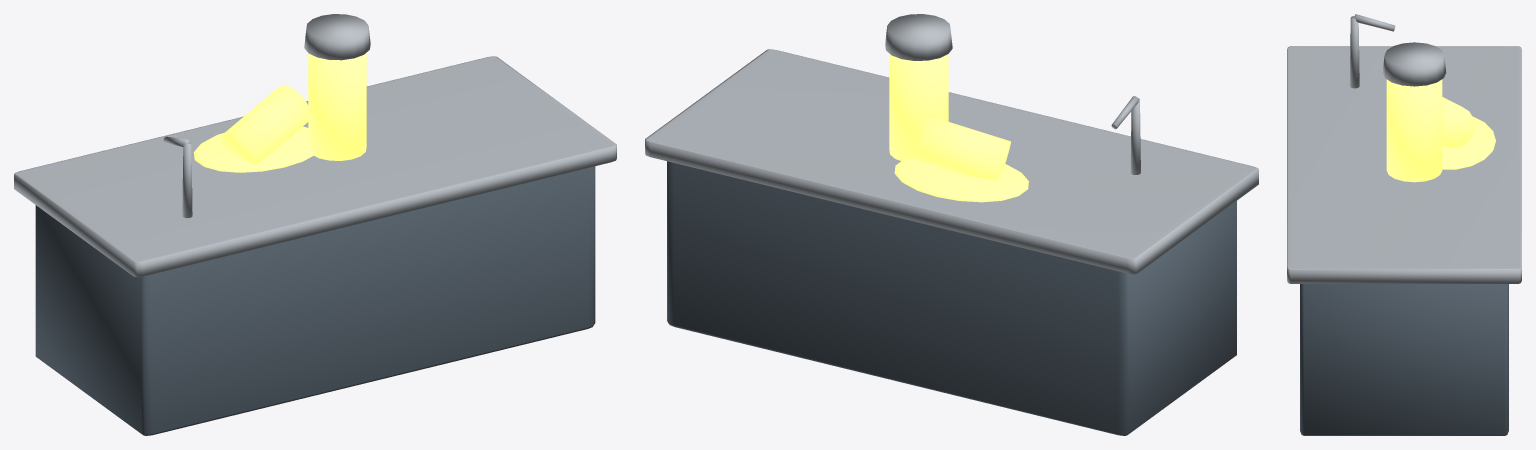
Rendered from SM_School_LabStation.fbx.
3 renders of one model, left to right at view 1: azimuth 30°, elevation 25°; view 2: azimuth 150°, elevation 25°; view 3: azimuth 270°, elevation 25°, orthographic. The views are drawn at different scales.
Parts seen in each view (by area): view 1: SM_School_LabStation; view 2: SM_School_LabStation; view 3: SM_School_LabStation.
Part boxes in pixels (x1=…): SM_School_LabStation: x1=14, y1=14, x2=616, y2=435; SM_School_LabStation: x1=645, y1=14, x2=1258, y2=435; SM_School_LabStation: x1=1287, y1=14, x2=1521, y2=435.
Size of the model in its own units: 2.66 by 1.61 by 1.18.
